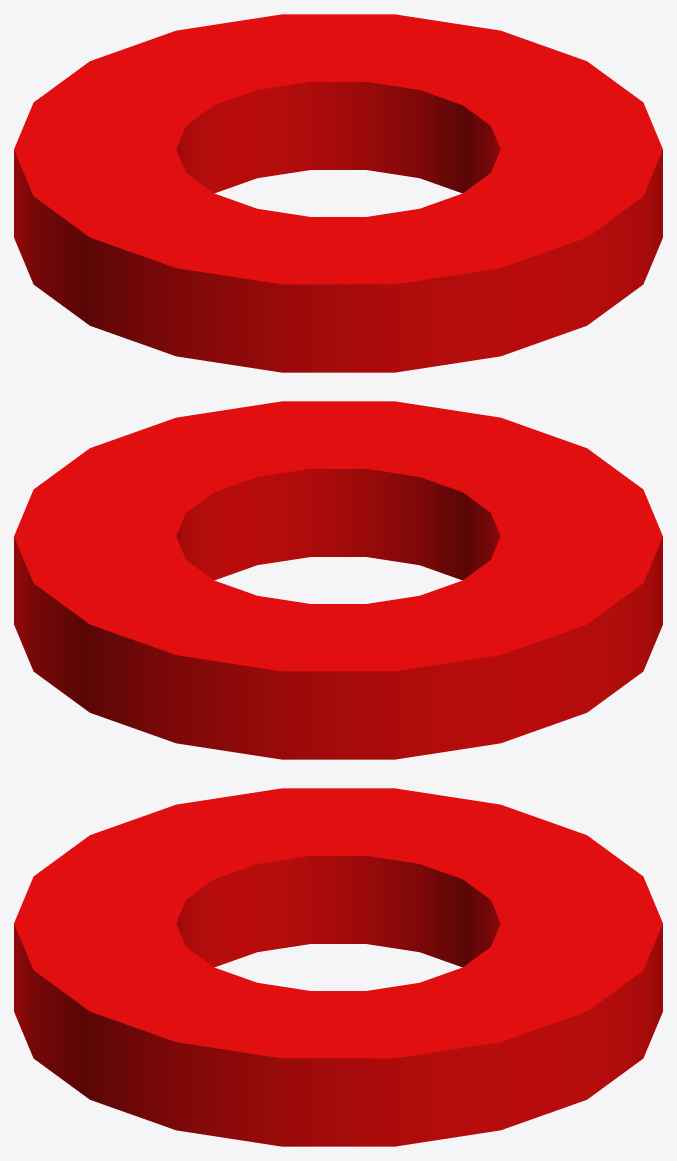
The picture shows the model from 3 angles, top to bottom: view 1: azimuth 30°, elevation 25°; view 2: azimuth 150°, elevation 25°; view 3: azimuth 270°, elevation 25°; orthographic projection.
Parts seen in each view (by area): view 1: Tube001; view 2: Tube001; view 3: Tube001.
Boxes of the visible parts, x1,y1,x2,y2 form: Tube001: (14, 14, 662, 372); Tube001: (14, 401, 662, 759); Tube001: (14, 788, 662, 1146).
Size of the model in its own units: 3.94 by 0.6 by 4.
